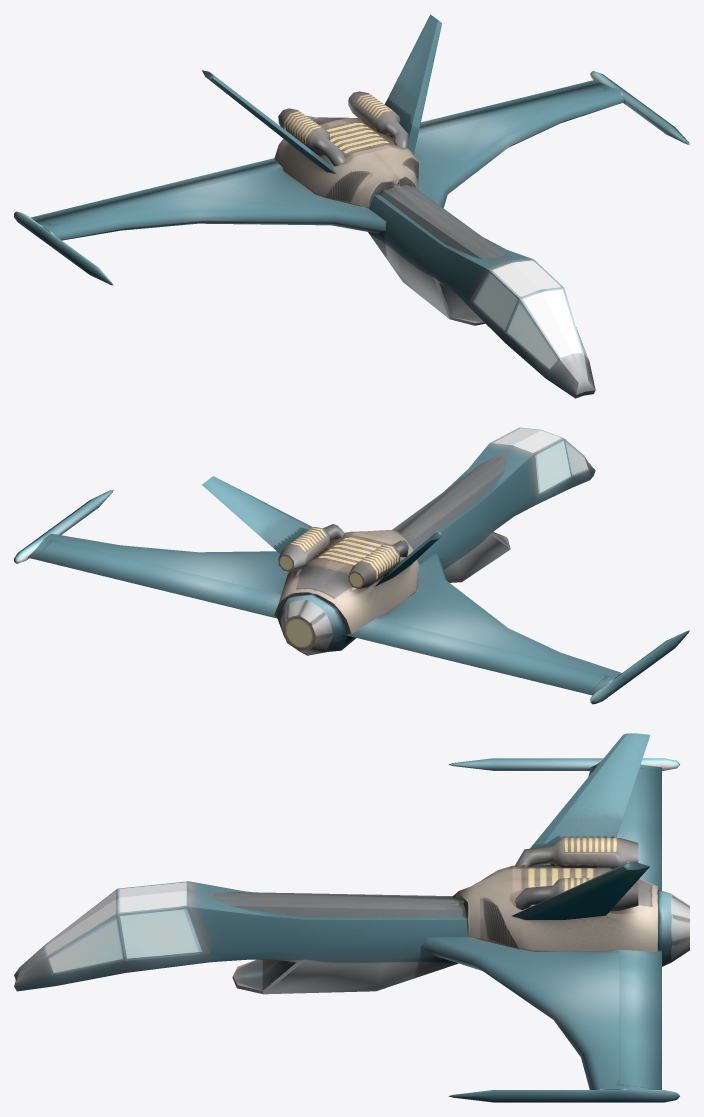
The model's file is vehicle_spacecraft_ship_avenger_001_gr_mesh.FBX.
3 views of the same model, one above another, from view 1: azimuth 30°, elevation 25°; view 2: azimuth 150°, elevation 25°; view 3: azimuth 270°, elevation 25° (orthographic). The views are drawn at different scales.
Visible parts, largest first — view 1: vehicle_spacecraft_ship_avenger_001_gr; view 2: vehicle_spacecraft_ship_avenger_001_gr; view 3: vehicle_spacecraft_ship_avenger_001_gr.
Boxes of the visible parts, bbox=[...] form: vehicle_spacecraft_ship_avenger_001_gr: bbox=[14, 14, 689, 398]; vehicle_spacecraft_ship_avenger_001_gr: bbox=[14, 427, 689, 704]; vehicle_spacecraft_ship_avenger_001_gr: bbox=[14, 733, 689, 1102].
Bounding box in the file's own units: 6.69 × 1.74 × 5.67.
Materials: 1 (1 with a texture image).
